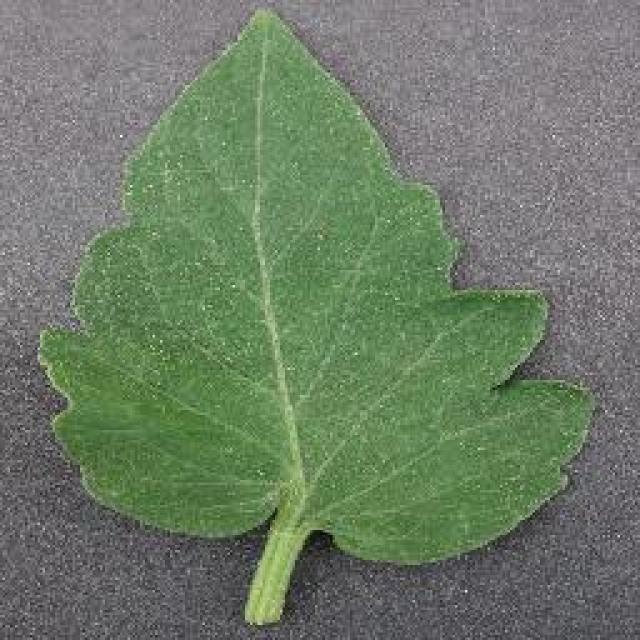Tomato_Healthy: (36, 3, 598, 565)
